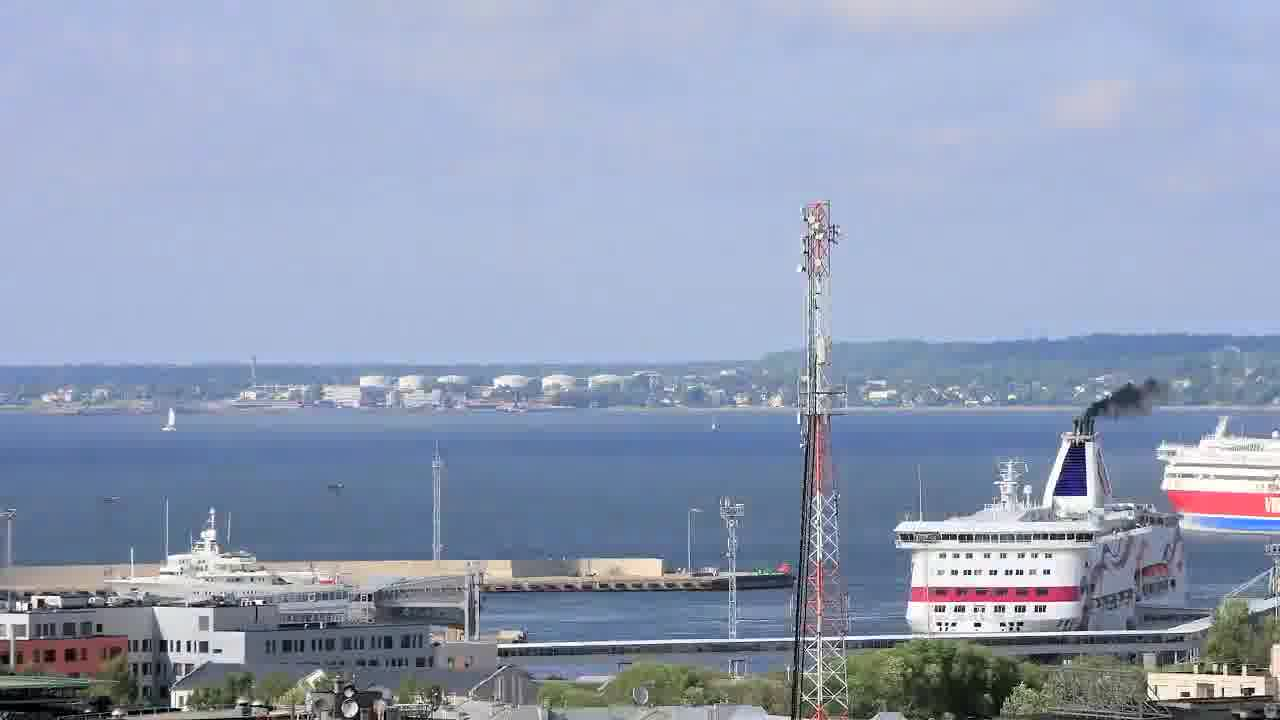type-2: (141, 390, 193, 450)
type-3: (889, 419, 1189, 638), (89, 518, 402, 620), (1159, 421, 1279, 536)
